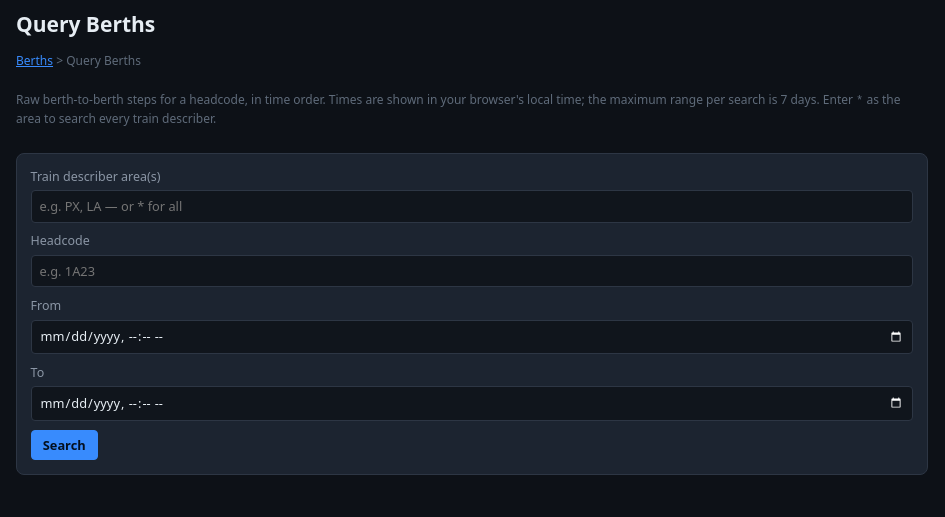
Scenario: BerthQueryPage › shows the server's error message when the search fails
The image size is (945, 517).
In the field labelled "Train describer area(s)": (472, 207) [31,190,913,223], type "PX"
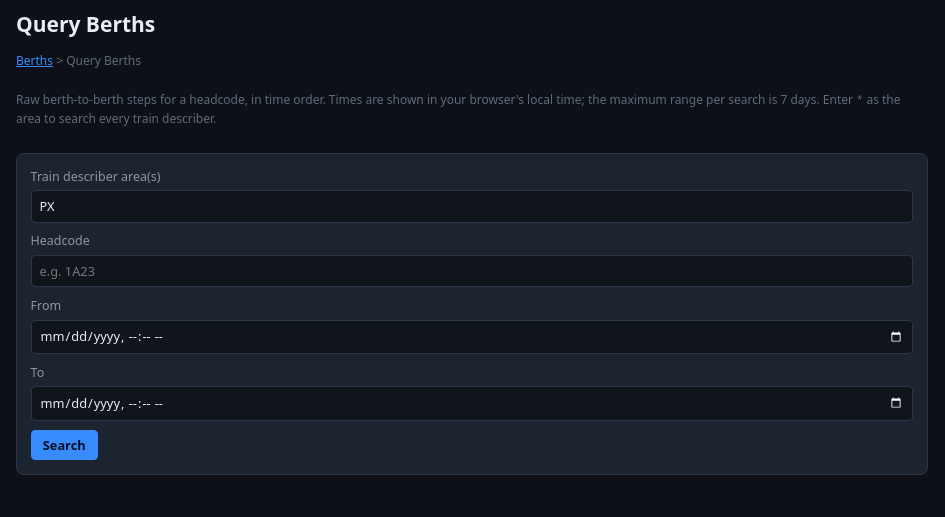
In the field with placeholder "e.g. 1A23": (472, 271) [31,255,913,288], type "1A23"
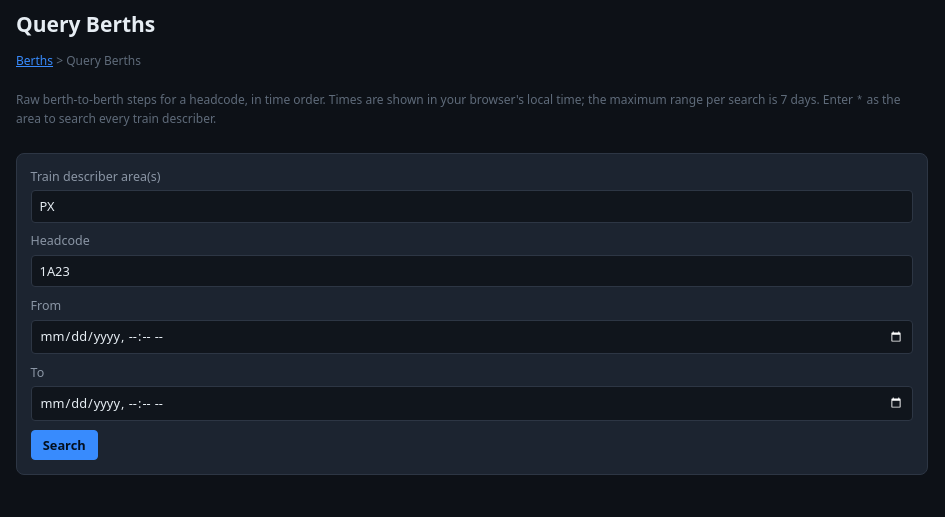
Click the button "Search": (64, 445) [31,430,98,460]
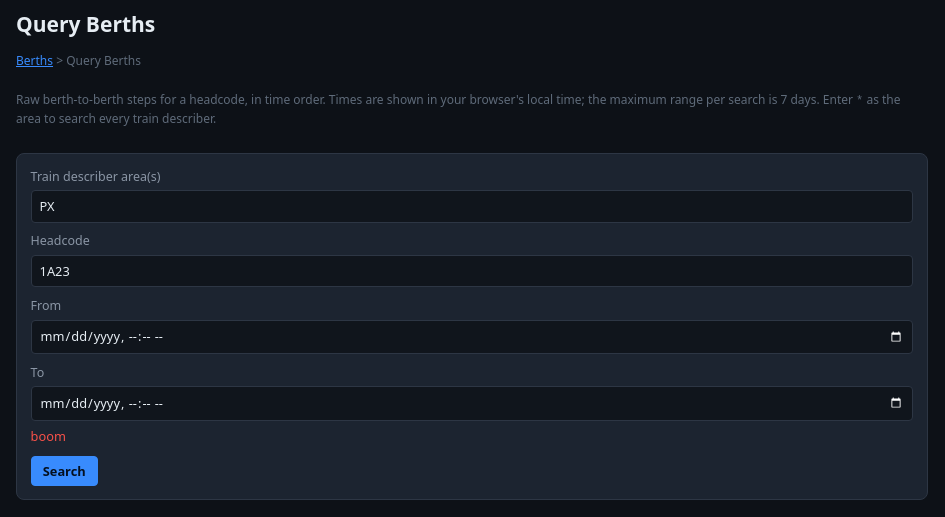
Check: the message reads "boom", box [31,427,66,445]
